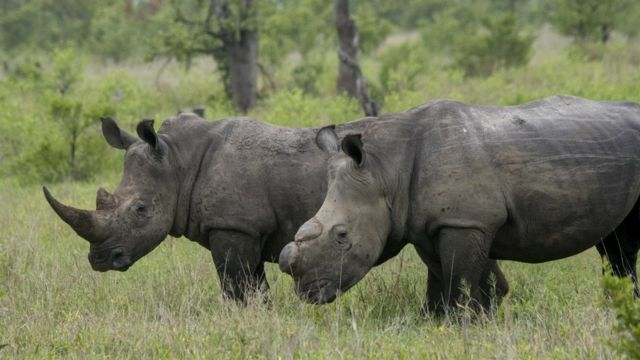Rhinoceros: (33, 89, 276, 309)
